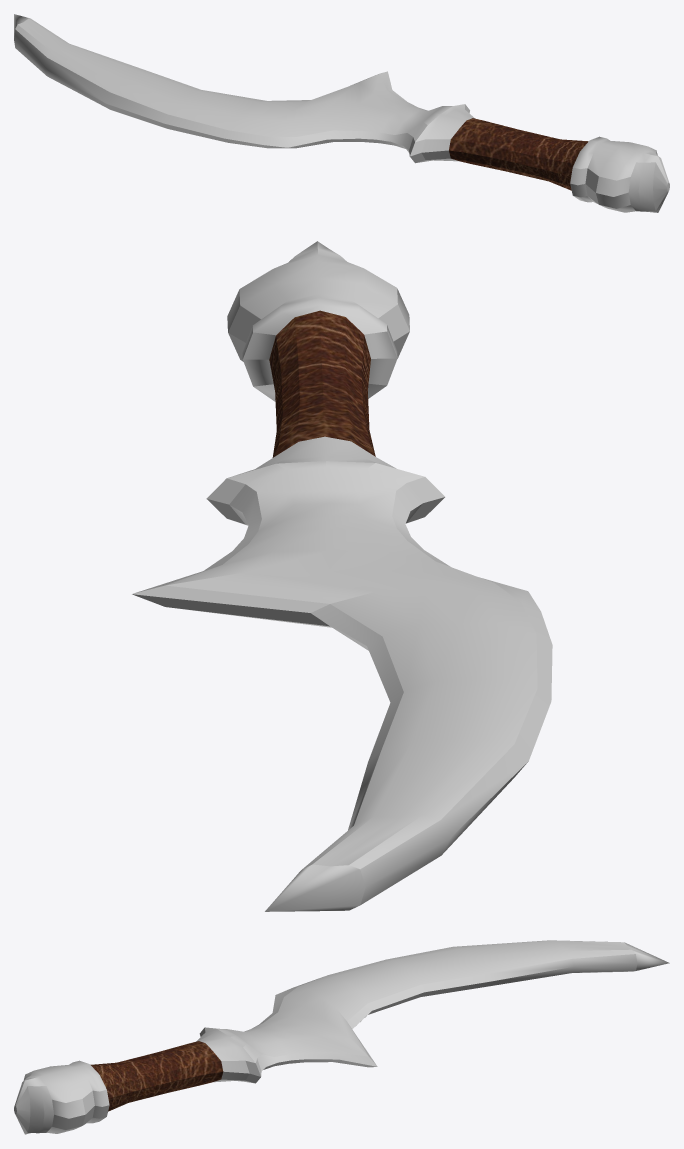
File: dagger.fbx
3 renders of one model, top to bottom at view 1: azimuth 30°, elevation 25°; view 2: azimuth 150°, elevation 25°; view 3: azimuth 270°, elevation 25°, orthographic. The views are drawn at different scales.
Parts seen in each view (by area): view 1: sword; view 2: sword; view 3: sword.
Part boxes in pixels (<box>): sword: <box>14,14,669,212</box>; sword: <box>132,241,552,911</box>; sword: <box>14,940,669,1134</box>.
Size of the model in its own units: 5.54 by 0.8175 by 8.97.
